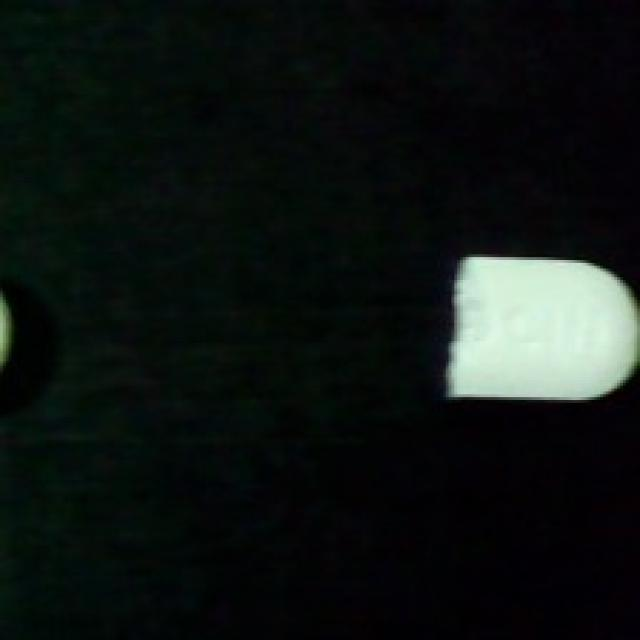defected: (440, 249, 640, 406)
